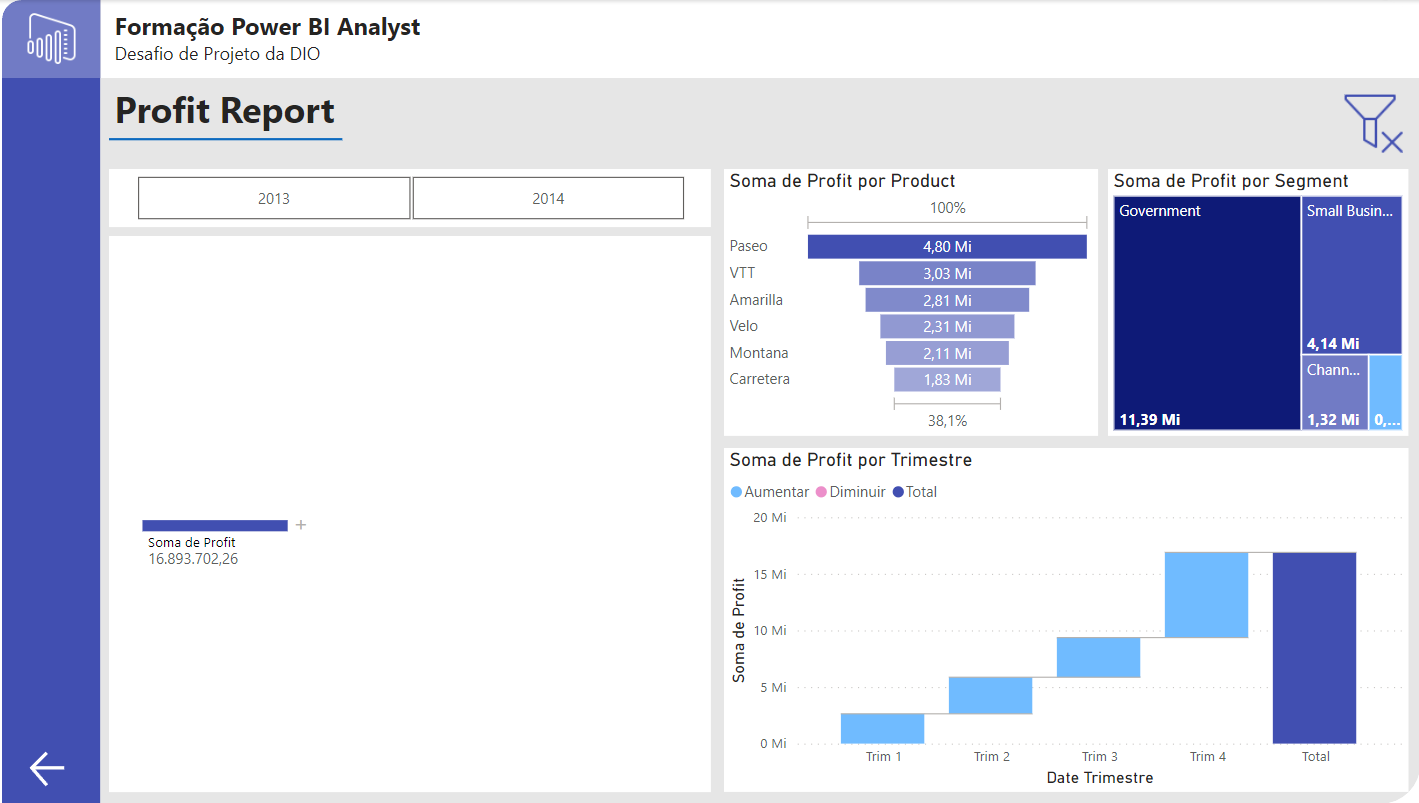

The dashboard page shown, as its layout file describes it:
{"tool":"powerbi","page":{"name":"Profit Report","canvas":[1280,720],"ordinal":1},"visuals":[{"type":"shape","box":[9.7,0,1270.3,720],"z":0},{"type":"shape","box":[9.7,0,88.4,720.2],"z":1000},{"type":"shape","box":[9.7,0,88.4,70],"z":2000},{"type":"image","box":[20.4,3.9,68,62.2],"z":3000},{"type":"shape","box":[98.2,0,1181.8,70],"z":4000},{"type":"textbox","box":[105.9,3.9,570.5,62.2],"z":5000},{"type":"textbox","box":[105.9,70,222.6,61.2],"z":6000},{"type":"shape","box":[105.9,110.8,209,27.2],"z":7000},{"type":"image","box":[1207.1,79.7,62.2,62.2],"z":8000},{"type":"slicer","fields":{"Values":["financials.Date.Variation.Hierarquia de datas.Ano"]},"box":[105.7,151.3,539.1,51.9],"z":9000},{"type":"decompositionTreeVisual","fields":{"Analyze":["Sum(financials.Profit)"],"ExplainBy":["financials.Country","financials.Date.Variation.Hierarquia de datas.Ano"]},"box":[105.7,211.3,539.1,497.9],"z":10000},{"type":"treemap","fields":{"Values":["Sum(financials.Profit)"],"Details":["financials.Segment"]},"box":[1000.3,151.3,268.7,239.1],"z":11000},{"type":"funnel","fields":{"Y":["Sum(financials.Profit)"],"Category":["financials.Product"]},"box":[656.4,151.3,334.9,239.1],"z":12000},{"type":"waterfallChart","fields":{"Y":["Sum(financials.Profit)"],"Category":["financials.Date.Variation.Hierarquia de datas.Trimestre"]},"box":[656.4,401.2,612.5,308.1],"z":13000},{"type":"actionButton","box":[30.4,668.1,46.6,41.2],"z":13001}]}

Visuals, with their boxes on the page's 1280x720 design canvas (x1, y1, x2, y2). These are canvas units, not pixel positions in the 1419x803 screenshot, which may show the page scaled, cropped or inside an application window:
shape: rect(10, 0, 1280, 720)
shape: rect(10, 0, 98, 720)
shape: rect(10, 0, 98, 70)
image: rect(20, 4, 88, 66)
shape: rect(98, 0, 1280, 70)
textbox: rect(106, 4, 676, 66)
textbox: rect(106, 70, 328, 131)
shape: rect(106, 111, 315, 138)
image: rect(1207, 80, 1269, 142)
slicer - financials.Date.Variation.Hierarquia de datas.Ano: rect(106, 151, 645, 203)
decompositionTreeVisual - Sum(financials.Profit) x financials.Country: rect(106, 211, 645, 709)
treemap - Sum(financials.Profit) x financials.Segment: rect(1000, 151, 1269, 390)
funnel - Sum(financials.Profit) x financials.Product: rect(656, 151, 991, 390)
waterfallChart - Sum(financials.Profit) x financials.Date.Variation.Hierarquia de datas.Trimestre: rect(656, 401, 1269, 709)
actionButton: rect(30, 668, 77, 709)
